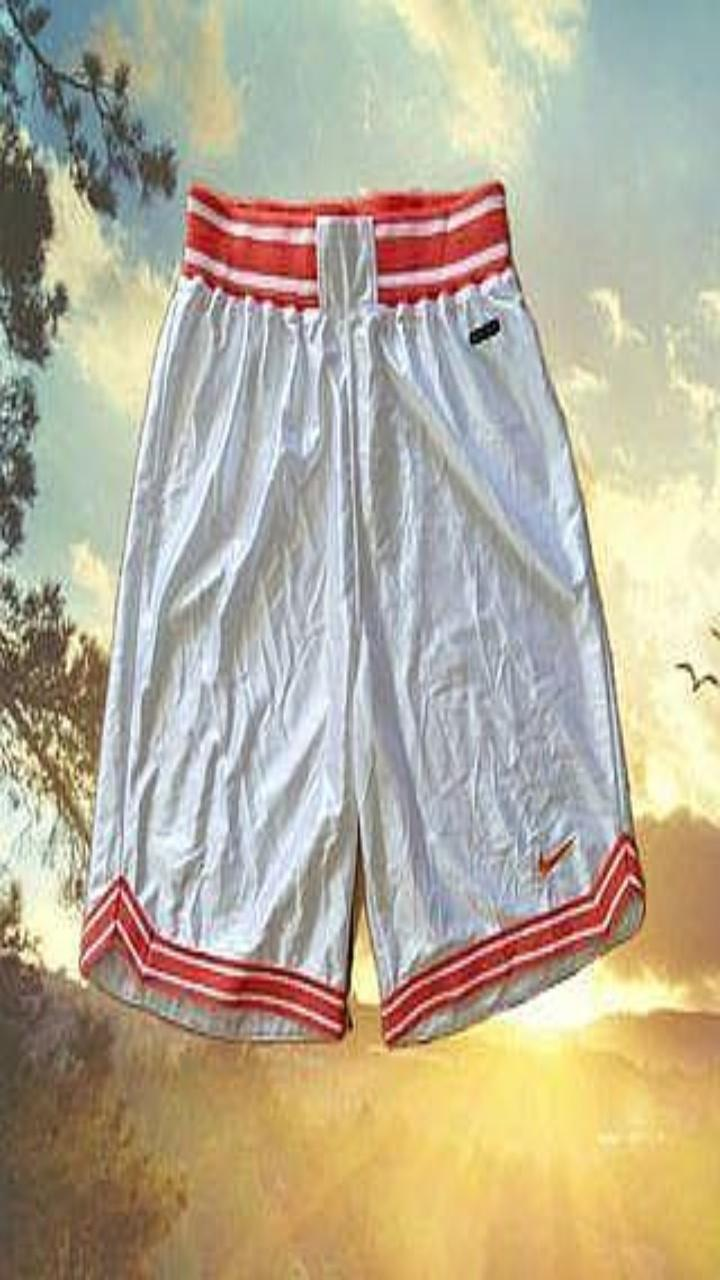Shorts: (80, 181, 644, 1045)
